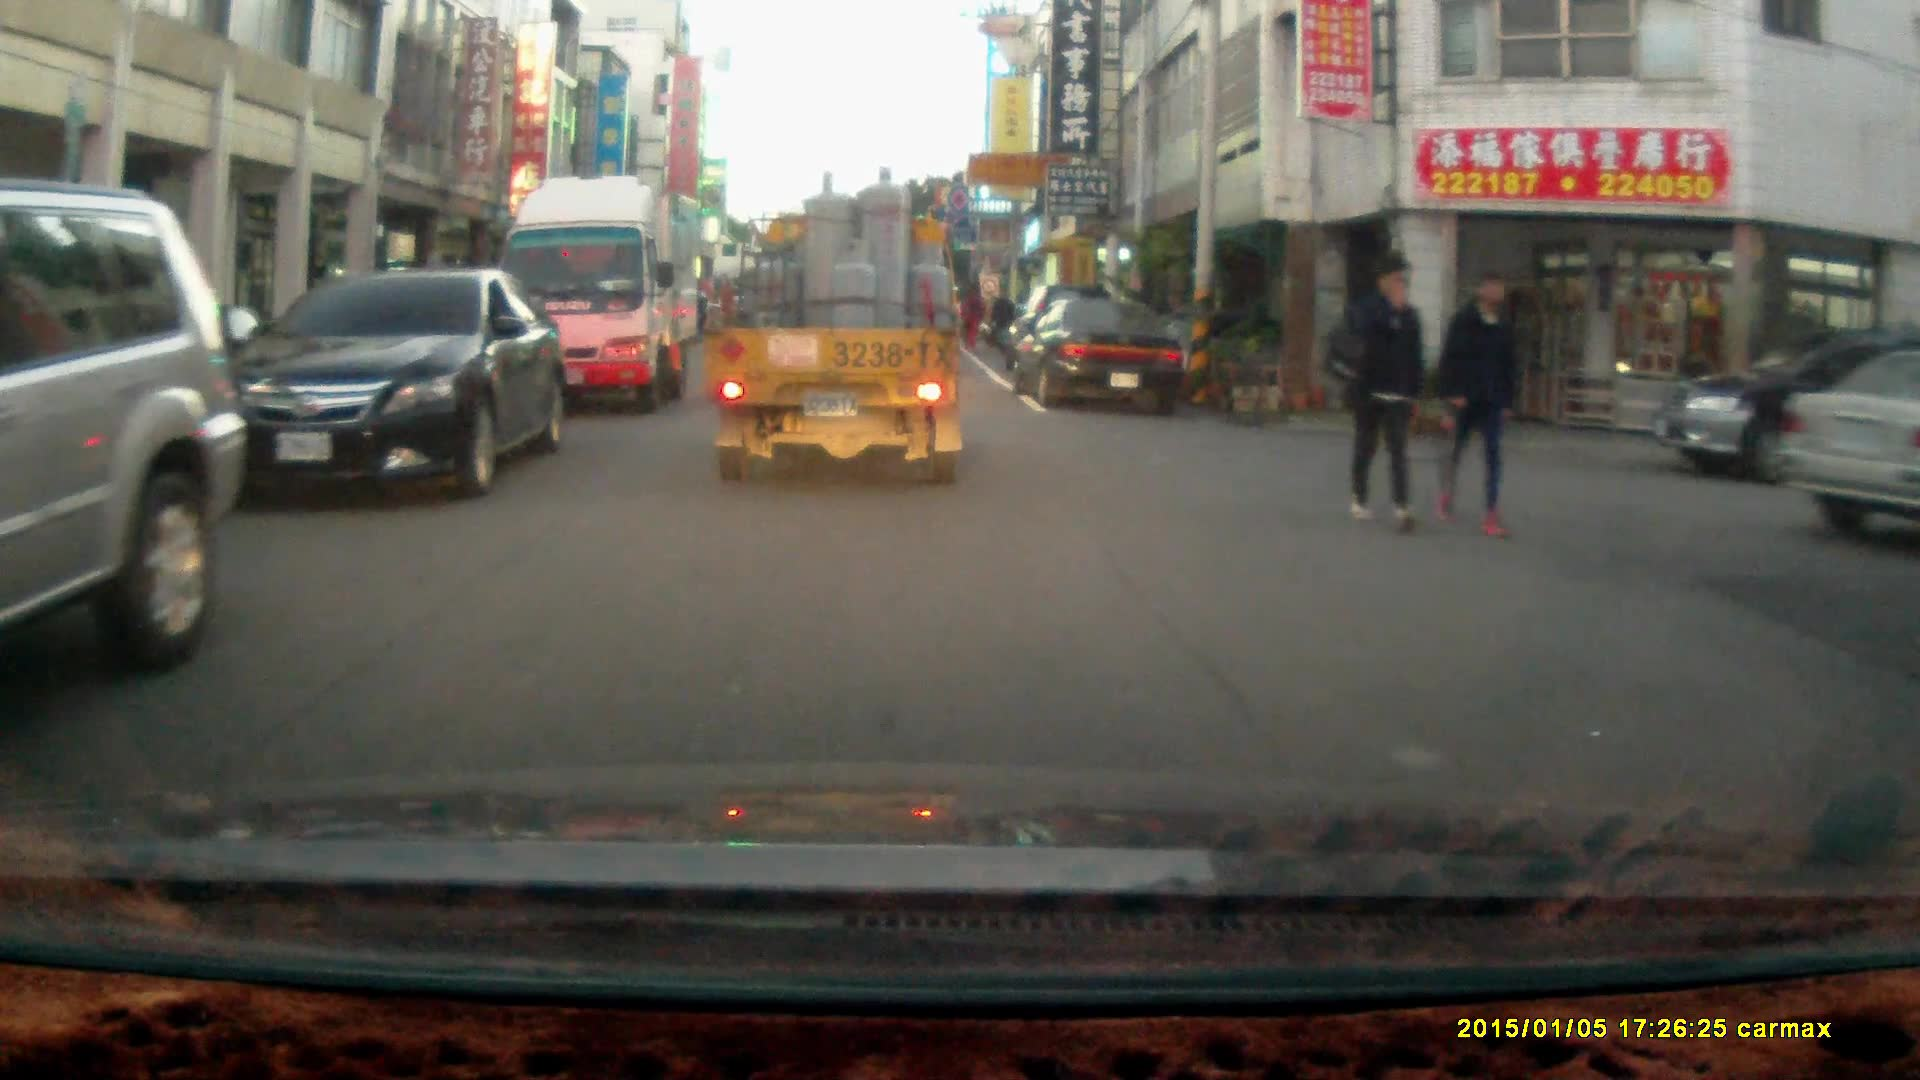pedestrian: (1432, 265, 1522, 542), (1342, 254, 1427, 535), (986, 281, 1015, 355), (959, 279, 984, 353)
vehicle: (1, 183, 248, 683), (185, 266, 574, 498), (708, 167, 970, 492), (492, 171, 702, 418), (1775, 343, 1920, 540), (1007, 297, 1188, 410)
